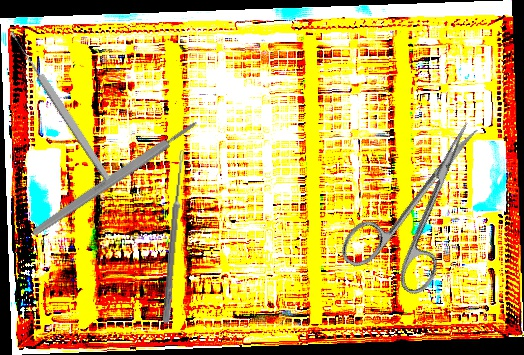Iris Scissors: (335, 101, 515, 307)
Scalpel Handle: (28, 118, 201, 239)
Surgical Spoon: (7, 28, 113, 183), (162, 148, 186, 324)
